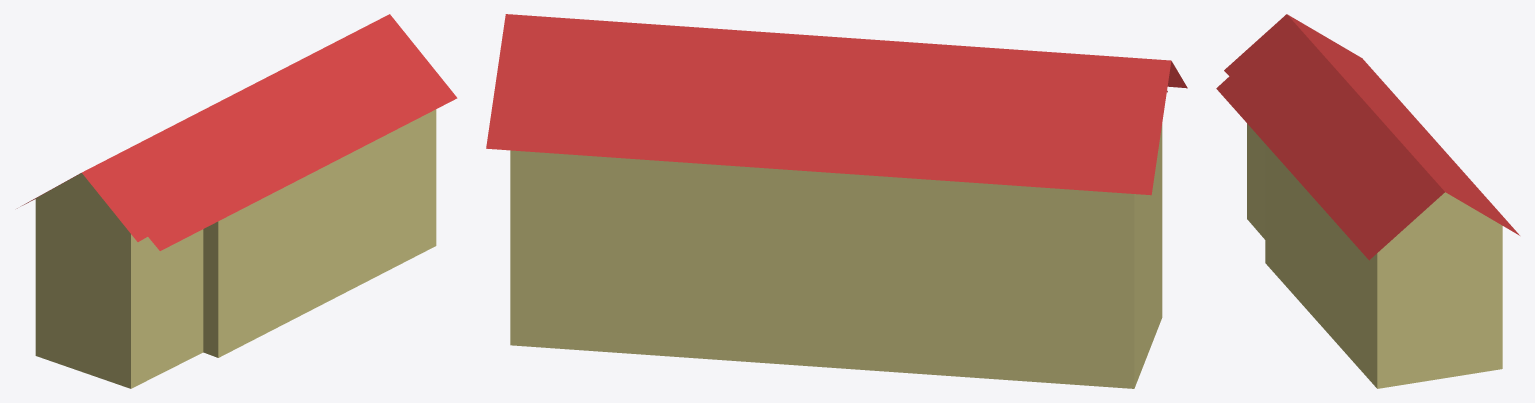
The picture shows the model from 3 angles, left to right: view 1: azimuth 30°, elevation 25°; view 2: azimuth 150°, elevation 25°; view 3: azimuth 270°, elevation 25°; orthographic projection. The views are drawn at different scales.
Bounding box in the file's own units: 25.58 × 16.28 × 11.35.
